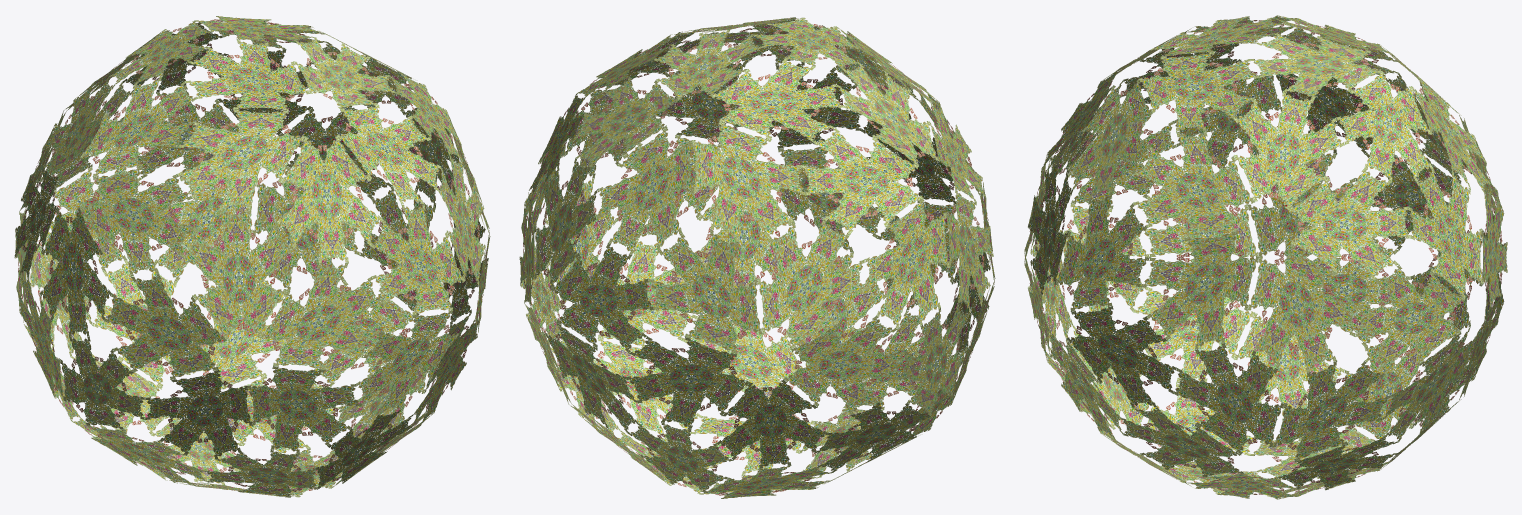
The model's file is PentagonalHexecontahedron9.obj.
The picture shows the model from 3 angles, left to right: view 1: azimuth 30°, elevation 25°; view 2: azimuth 150°, elevation 25°; view 3: azimuth 270°, elevation 25°; orthographic projection.
Bounding box in the file's own units: 4.19 × 4.19 × 4.19.
Materials: 1 (1 with a texture image).
